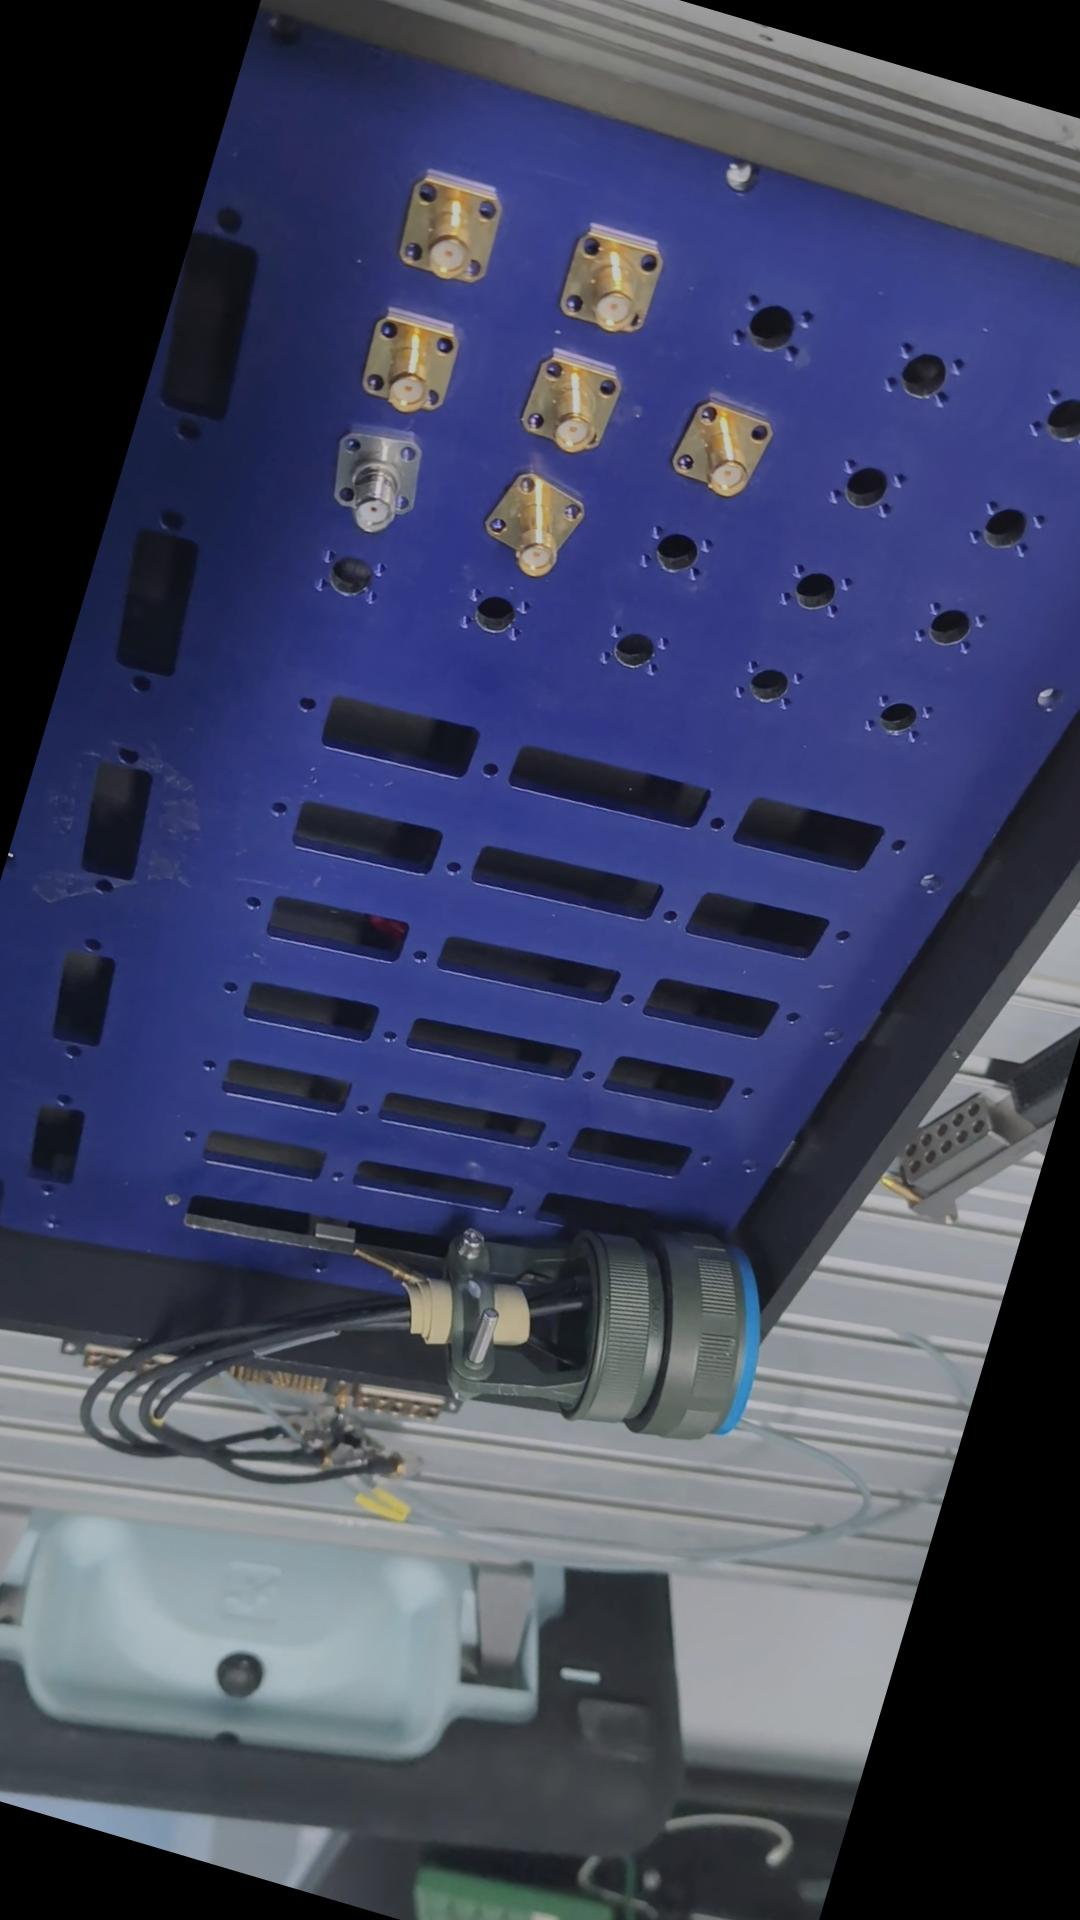SMA: (392, 162, 520, 301), (553, 218, 675, 344), (314, 415, 436, 541), (483, 462, 599, 587), (357, 305, 468, 418), (673, 389, 777, 505), (525, 349, 626, 462)
